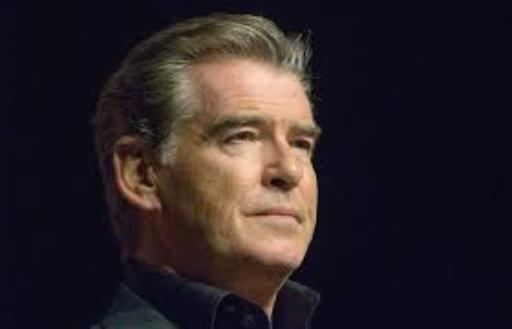left_eye: (287, 137, 312, 152)
left_lip_corner: (293, 210, 306, 227)
right_eye: (219, 130, 266, 146)
right_lip_corner: (238, 208, 257, 223)
